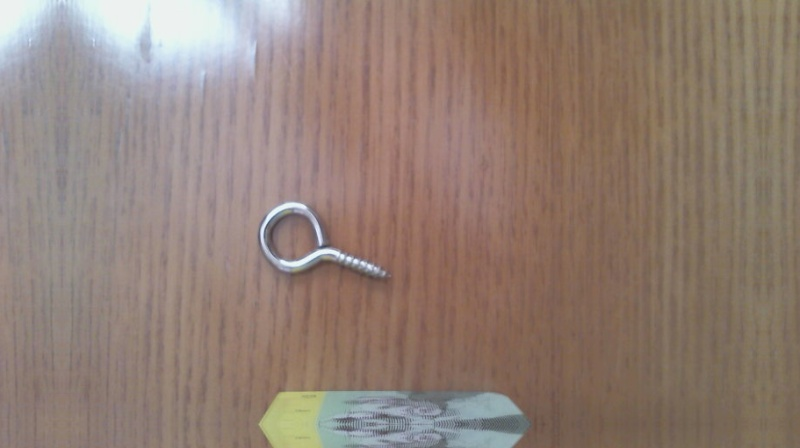O001: (250, 197, 396, 293)
